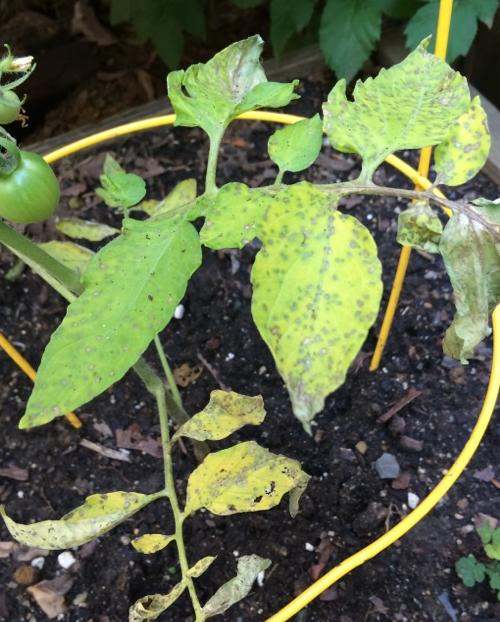Tomato Septoria leaf spot: (20, 182, 201, 432), (255, 165, 378, 443), (314, 31, 483, 166), (162, 16, 311, 151), (168, 447, 318, 528), (203, 170, 277, 251)
